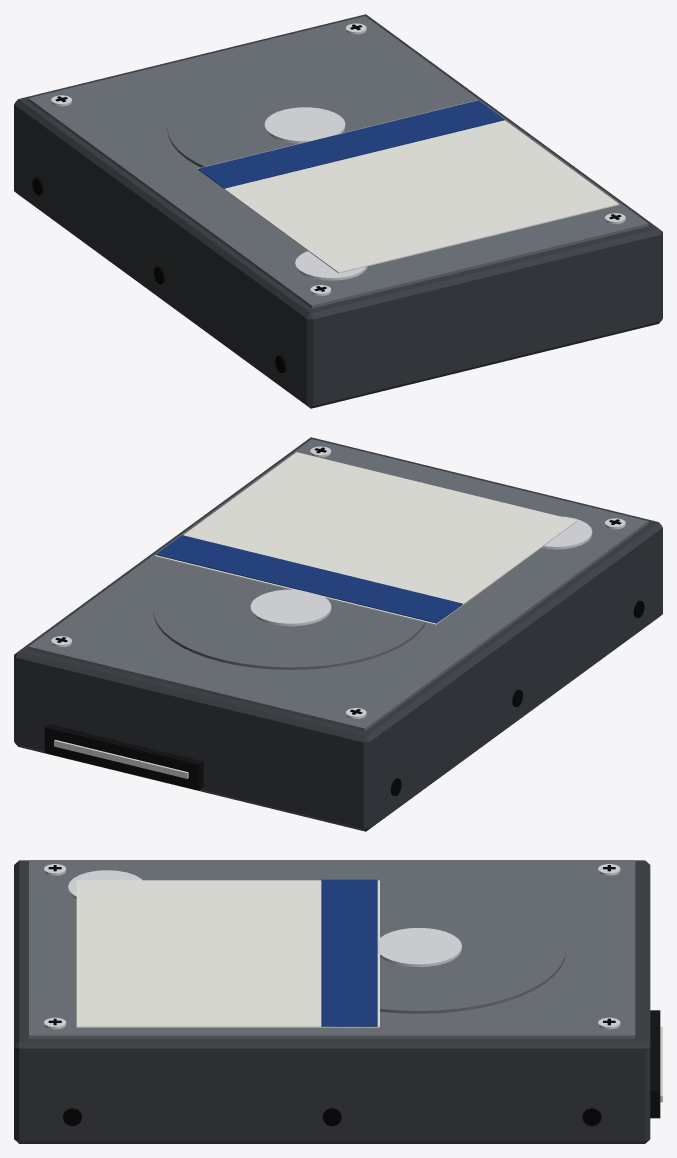
The model's file is hw_sto_hdd_1tb.glb.
The picture shows the model from 3 angles, top to bottom: view 1: azimuth 30°, elevation 25°; view 2: azimuth 150°, elevation 25°; view 3: azimuth 270°, elevation 25°; orthographic projection. The views are drawn at different scales.
Parts seen in each view (by area): view 1: Body; view 2: Body; view 3: Body.
Boxes of the visible parts, x1=… form: Body: x1=14, y1=14, x2=662, y2=408; Body: x1=14, y1=437, x2=662, y2=831; Body: x1=14, y1=860, x2=662, y2=1143.
Size of the model in its own units: 0.1028 by 0.0284 by 0.1499.
